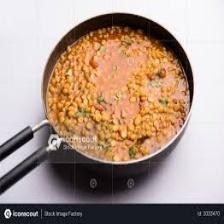dal: (44, 23, 193, 166)
